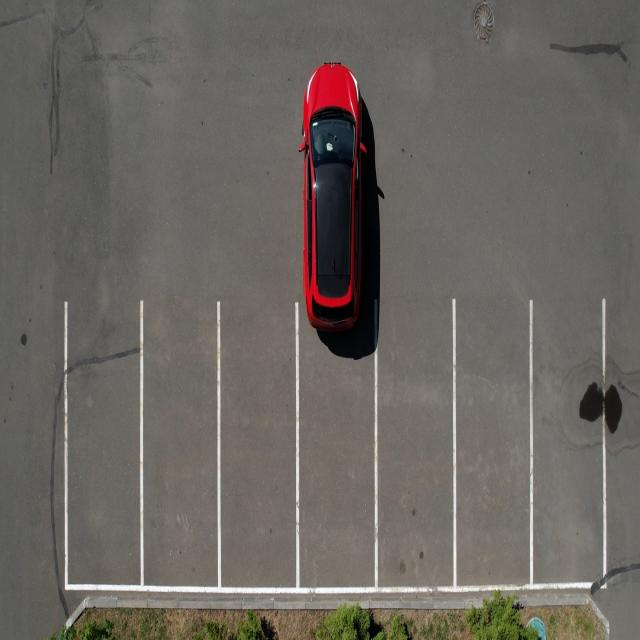space-empty: (450, 296, 534, 587), (217, 301, 301, 588), (138, 300, 222, 586), (297, 296, 378, 590), (374, 300, 457, 585), (528, 294, 608, 587), (63, 305, 144, 588), (0, 302, 68, 604)
